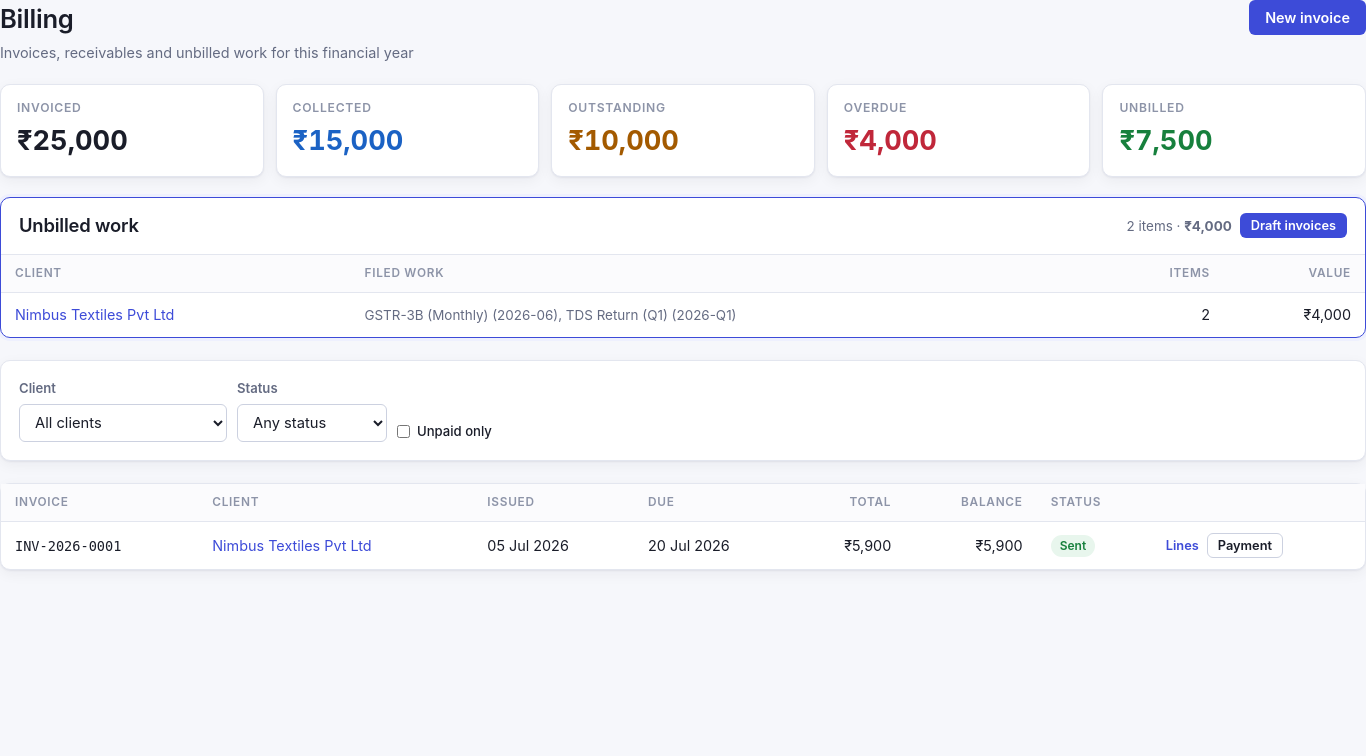
Billing — invoice lines › opens an invoice to show what it bills for
What coordinates should you click on to do the following:
click the button "Lines"
I would click on:
 (1182, 546)
Its box is [1166,538,1199,554].
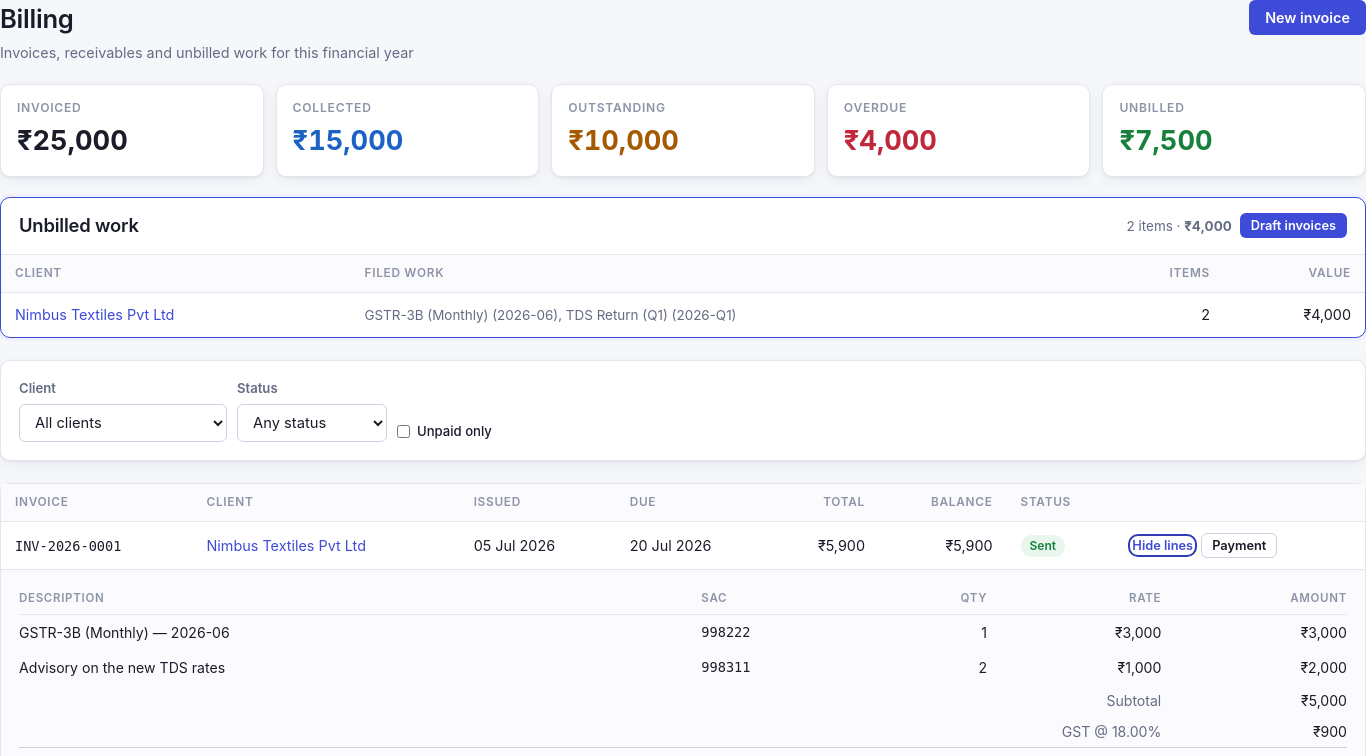
Check: the text "Advisory on the new TDS rates" is shown, box [19,650,701,685]
Check: the text "998222" is shown, box [701,615,884,650]
Check: the text "₹3,000" is shown 2 times, box [997,615,1171,650]; [1171,615,1347,650]
